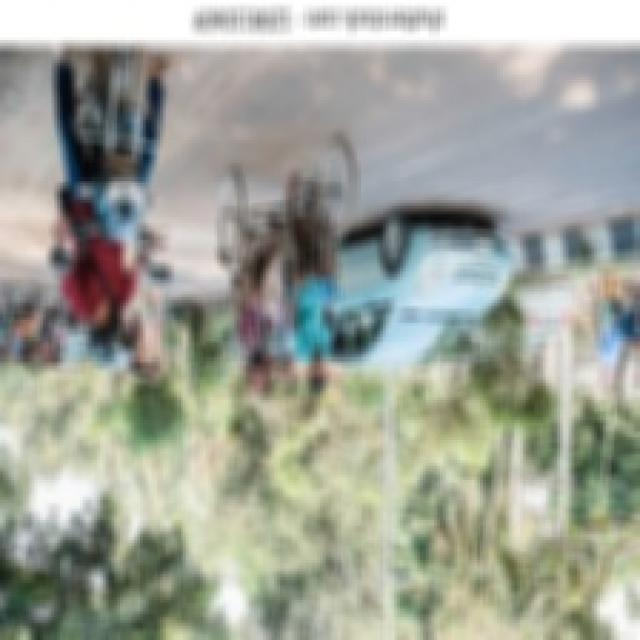bike: (65, 51, 179, 269)
car: (333, 218, 519, 383)
rickshaw: (212, 145, 361, 380), (6, 287, 46, 359)
